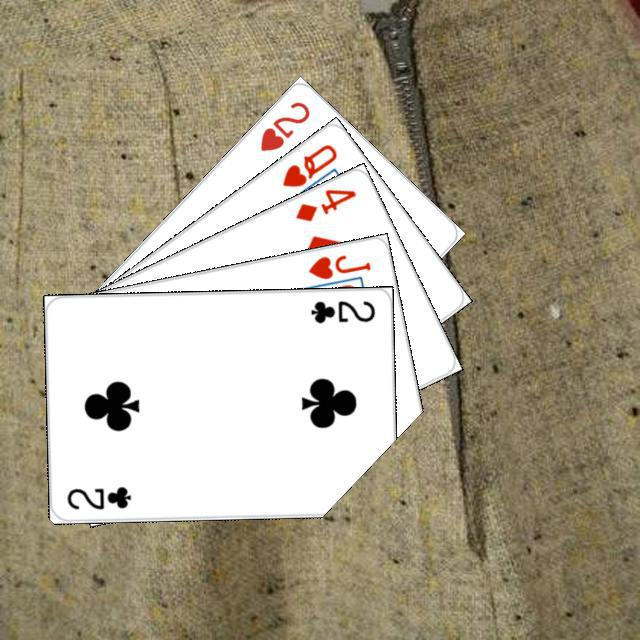2c: (305, 295, 377, 325), (62, 482, 133, 511)
2h: (255, 96, 312, 153)
4d: (290, 183, 358, 224)
Jh: (303, 249, 373, 281)
Qh: (277, 139, 339, 189)
